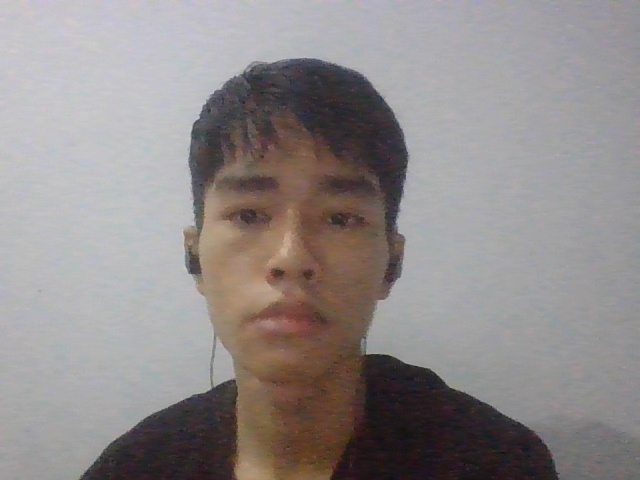real: (172, 45, 424, 402)
